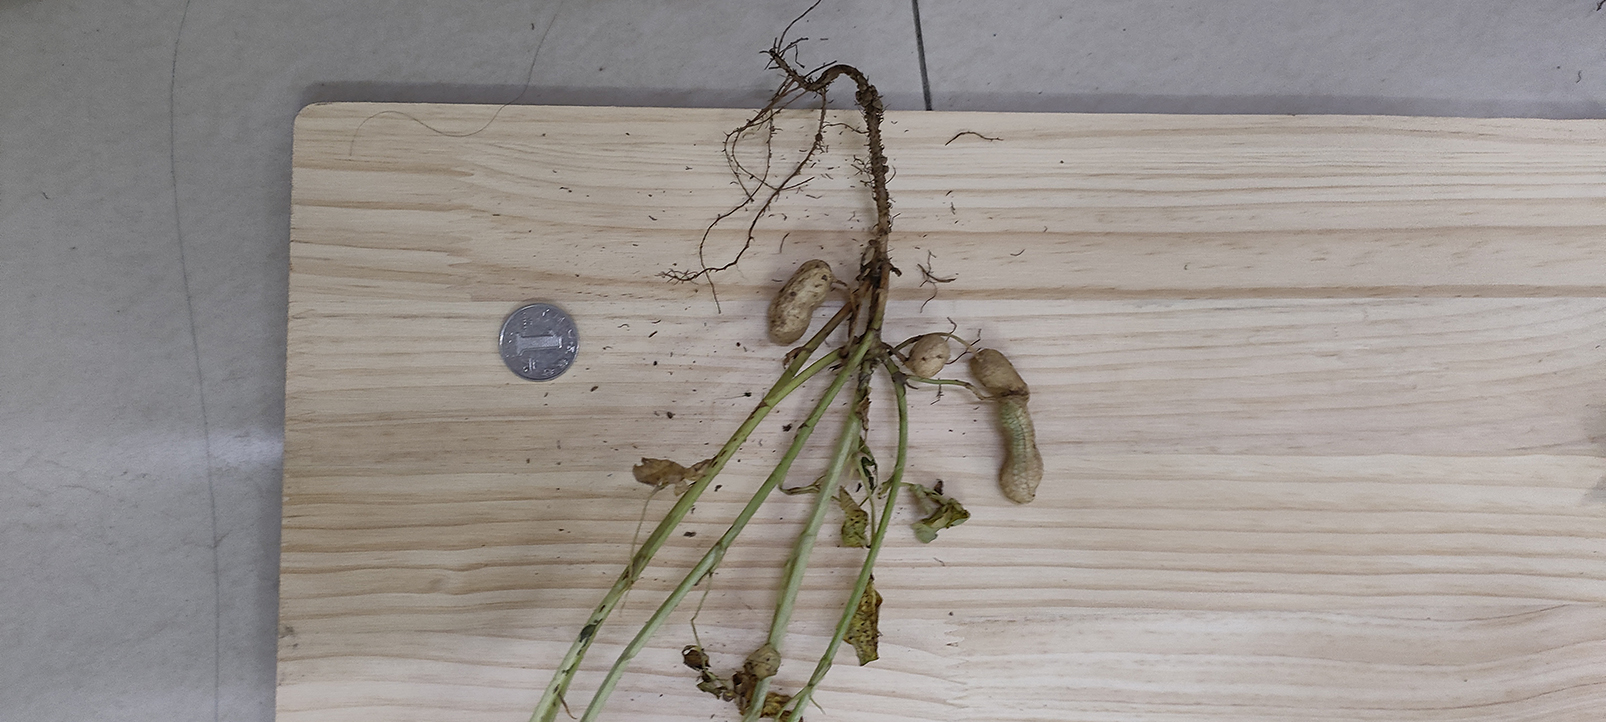h: (767, 259, 832, 346), (1001, 398, 1045, 503), (972, 347, 1029, 401), (908, 337, 949, 381)
